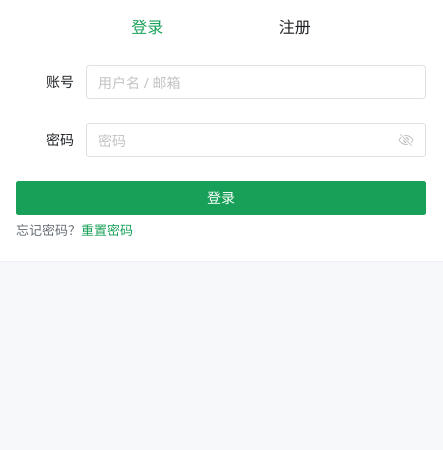
Scenario: 注册 › 两次密码不一致：本地拦截，不调接口
Note: 切到注册 Tab
Click the element with class "n-tabs-tab" showing "注册" at [295, 27], box [279,16,311,38]
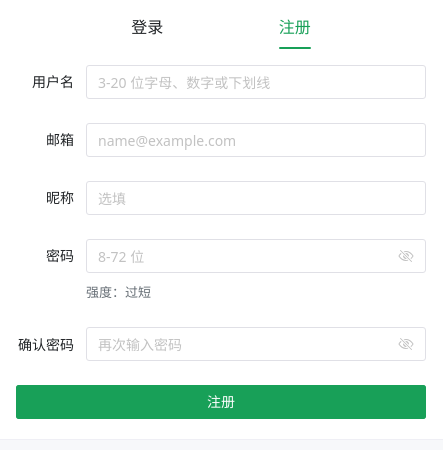
Type "newbie" into the field with placeholder "3-20 位字母、数字或下划线" at [256, 82], box [98,65,414,99]
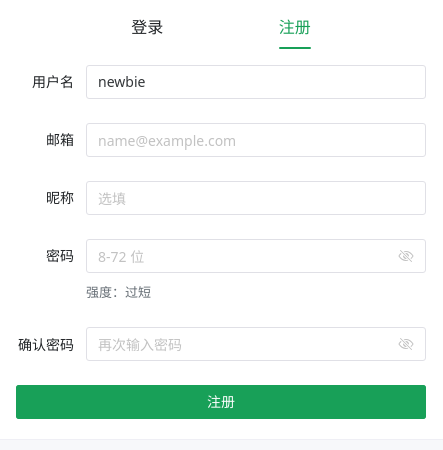
Type "n@example.com" into the field with placeholder "name@example.com" at [256, 140], box [98,123,414,157]
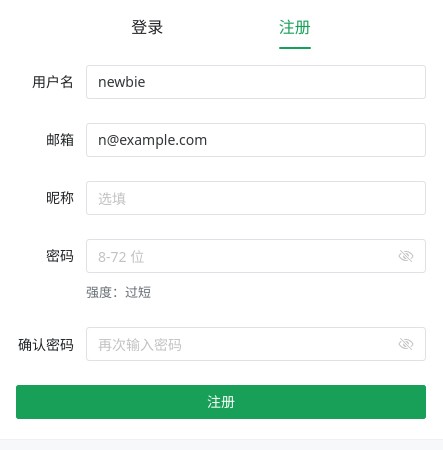
Type "Abcdef12" into the password field with placeholder "8-72 位" at [246, 256], box [98,239,394,273]
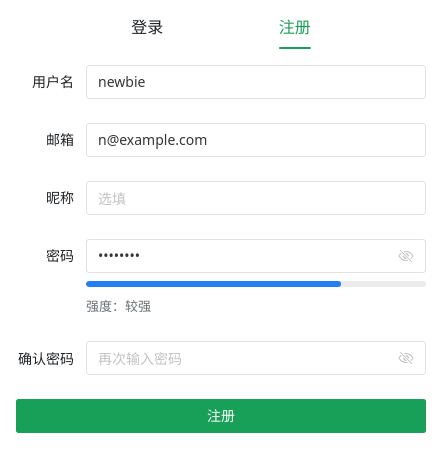
Type "Abcdef13" into the password field with placeholder "再次输入密码" at [246, 358], box [98,341,394,375]
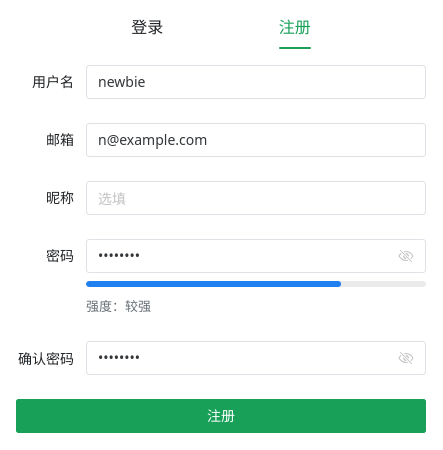
Click the button with test id "register-submit" at [221, 416], box [16,399,426,433]
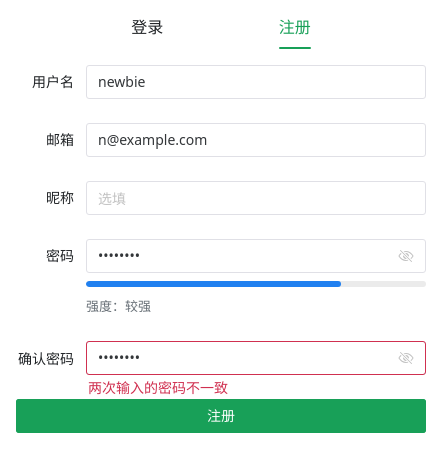
expect the text "两次输入的密码不一致" is shown: met, box [88,378,228,397]
